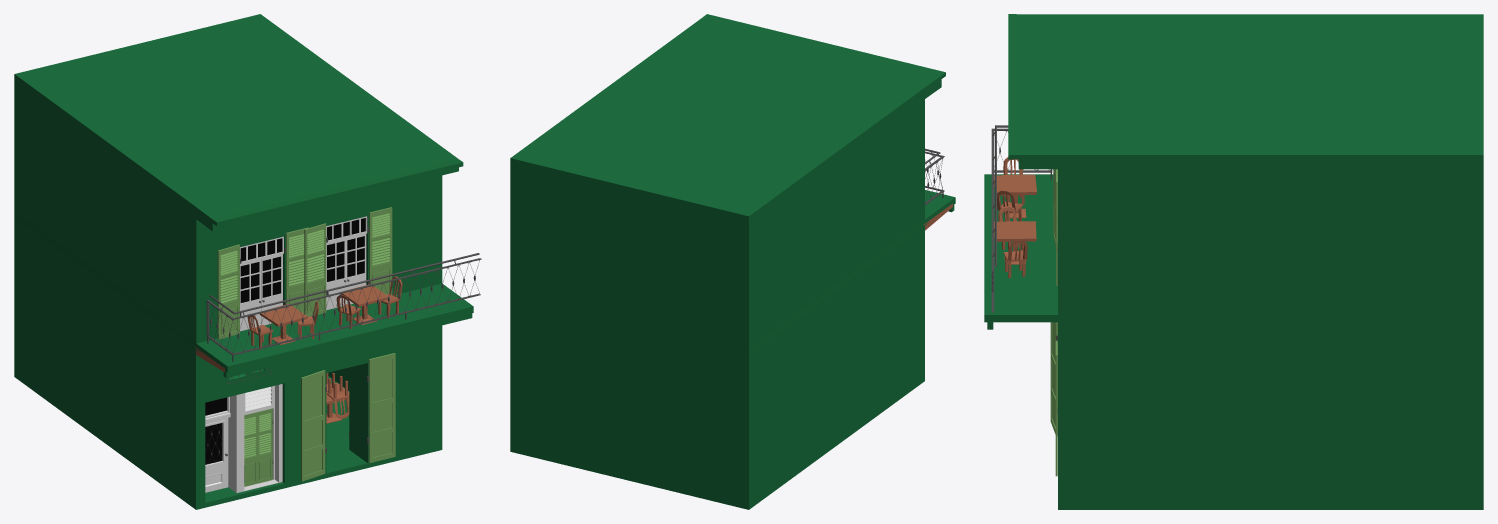
File: house6.1.fbx
3 views of the same model, side by side, from view 1: azimuth 30°, elevation 25°; view 2: azimuth 150°, elevation 25°; view 3: azimuth 270°, elevation 25° (orthographic). The views are drawn at different scales.
Parts seen in each view (by area): view 1: house10; view 2: house10; view 3: house10.
Boxes of the visible parts, x1=… form: house10: x1=14, y1=14, x2=481, y2=509; house10: x1=510, y1=14, x2=955, y2=509; house10: x1=984, y1=14, x2=1483, y2=509.
Bounding box in the file's own units: 4.43 × 4.98 × 6.35.
